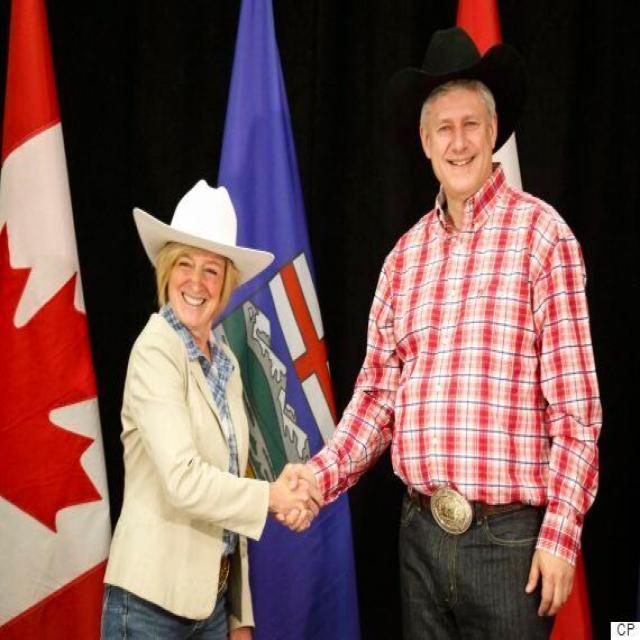hat: (385, 27, 535, 192), (136, 171, 275, 335)
